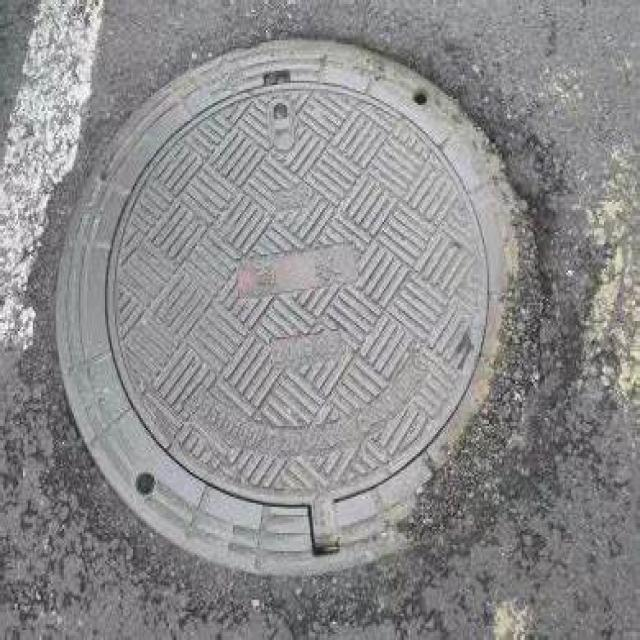manhole: (58, 40, 512, 574)
